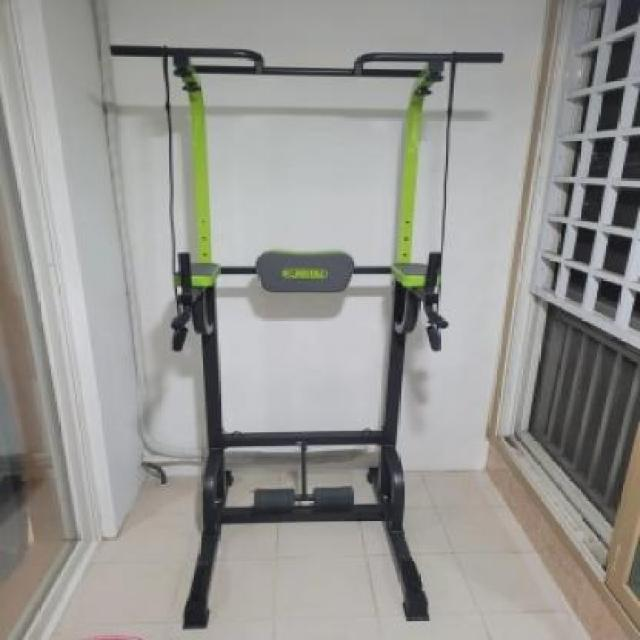chinning dipping: (106, 43, 502, 631)
